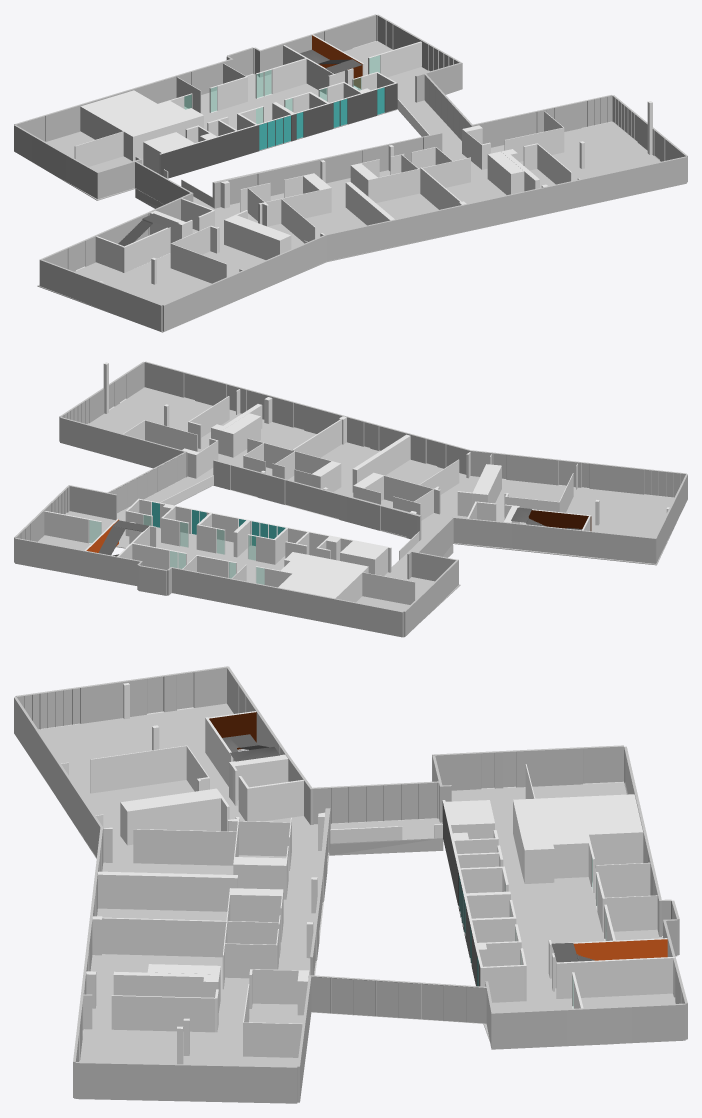
File: 2ndFLR.fbx
3 views of the same model, one above another, from view 1: azimuth 30°, elevation 25°; view 2: azimuth 150°, elevation 25°; view 3: azimuth 270°, elevation 25° (orthographic). The views are drawn at different scales.
Visible parts, largest first — view 1: Inside, ExteriorWalls, 2ndFloor; view 2: ExteriorWalls, Inside, 2ndFloor; view 3: Inside, ExteriorWalls, 2ndFloor.
Boxes of the visible parts, x1,y1,x2,y2 form: Inside: [74, 34, 652, 284]; ExteriorWalls: [14, 14, 687, 331]; 2ndFloor: [32, 41, 686, 332]; ExteriorWalls: [14, 361, 687, 637]; Inside: [44, 362, 669, 604]; 2ndFloor: [38, 387, 677, 637]; Inside: [61, 683, 674, 1064]; ExteriorWalls: [14, 666, 687, 1103]; 2ndFloor: [38, 703, 675, 1098].
Bounding box in the file's own units: 6699 × 654 × 4741.
